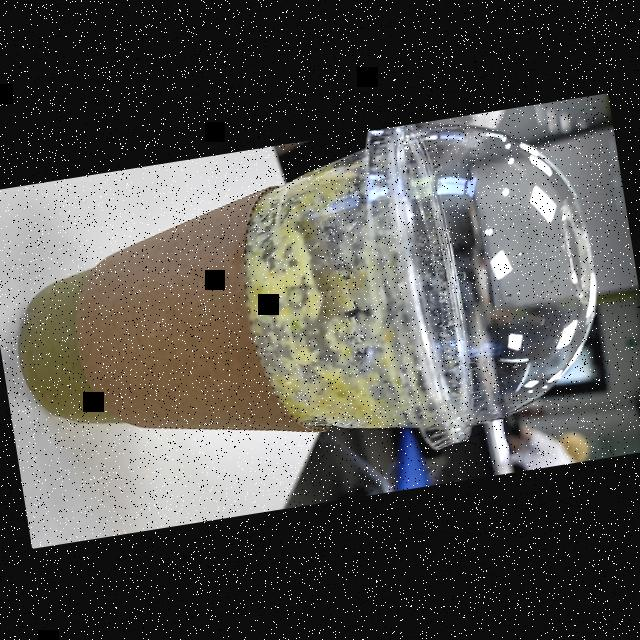plastic_cup: (1, 100, 630, 505)
plastic_cup_lid: (340, 99, 621, 458)
